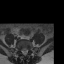CCS_normal: (24, 48, 26, 55)
LFS_stenosis: (28, 47, 29, 52)
LLS_normal: (26, 48, 28, 54)
RFS_stenosis: (19, 47, 21, 53)
RLS_normal: (21, 48, 24, 55)
